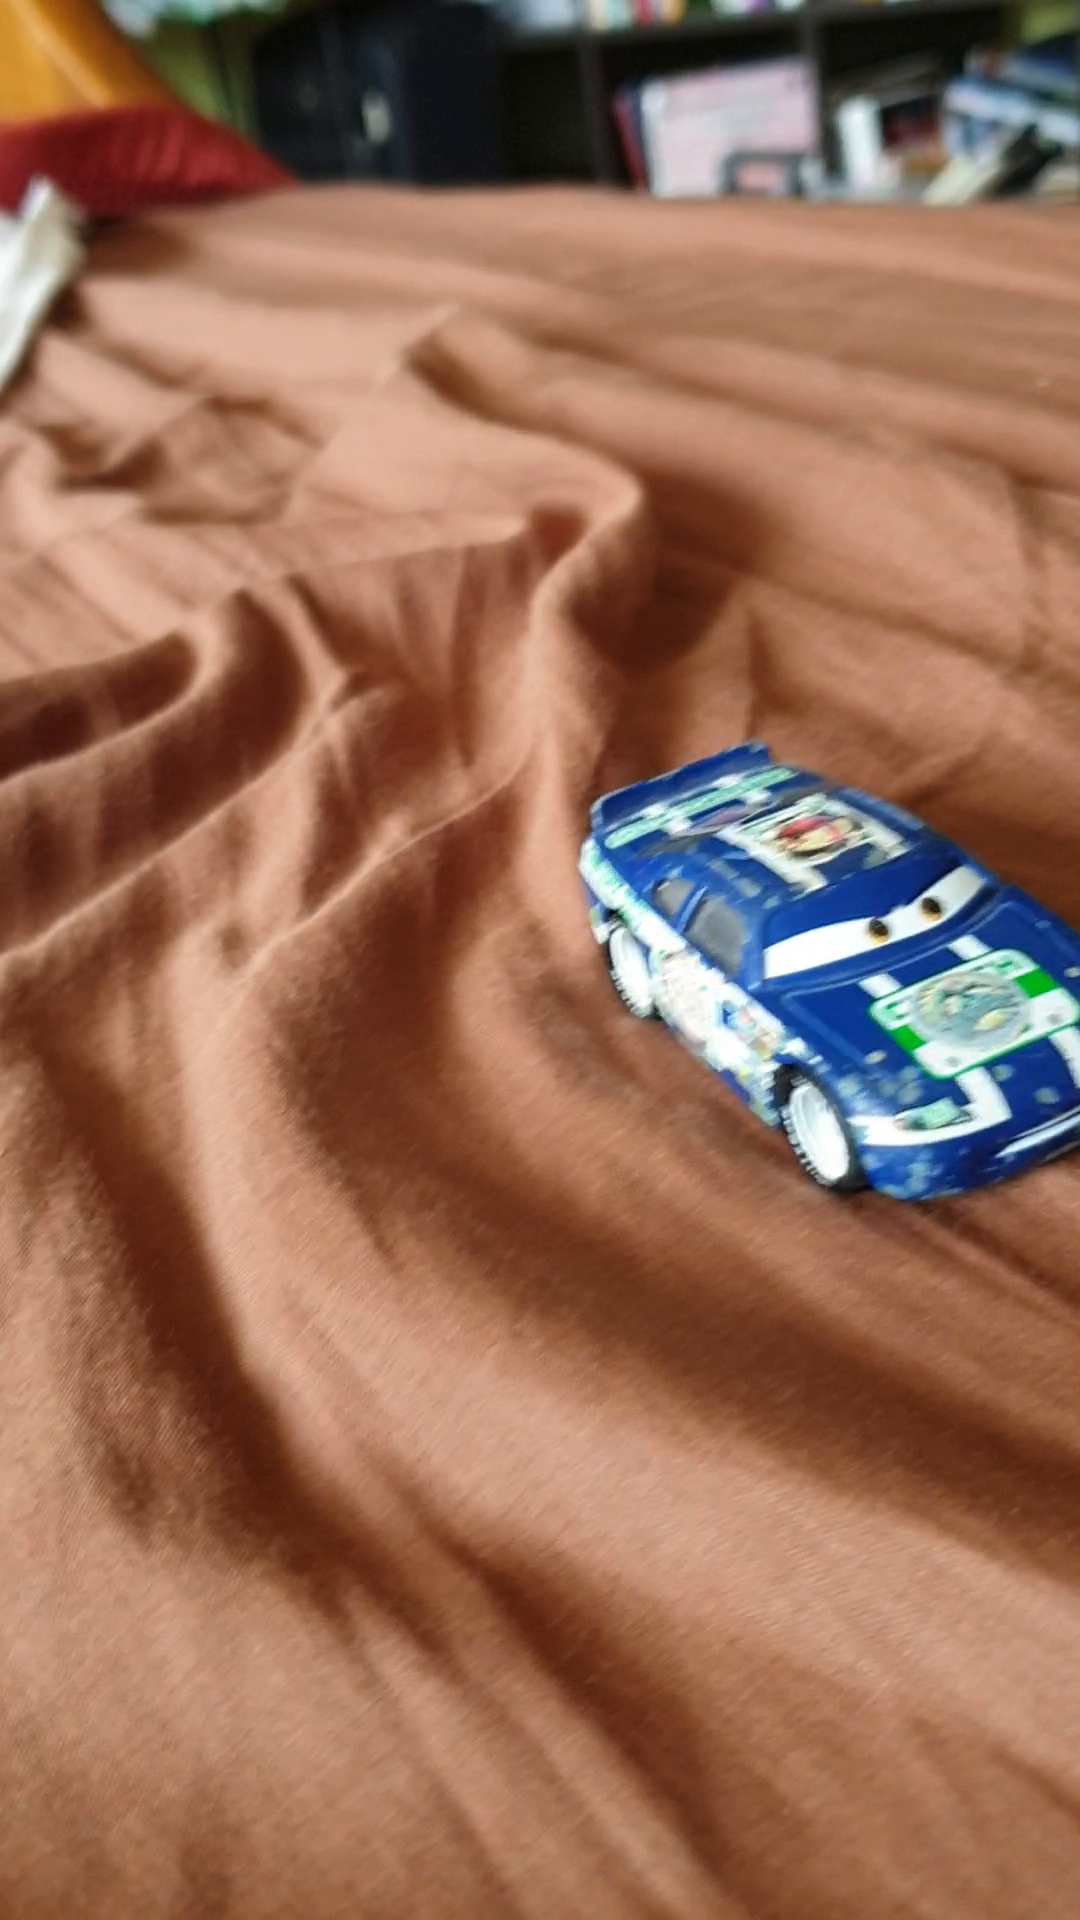cars: (582, 742, 1080, 1203)
